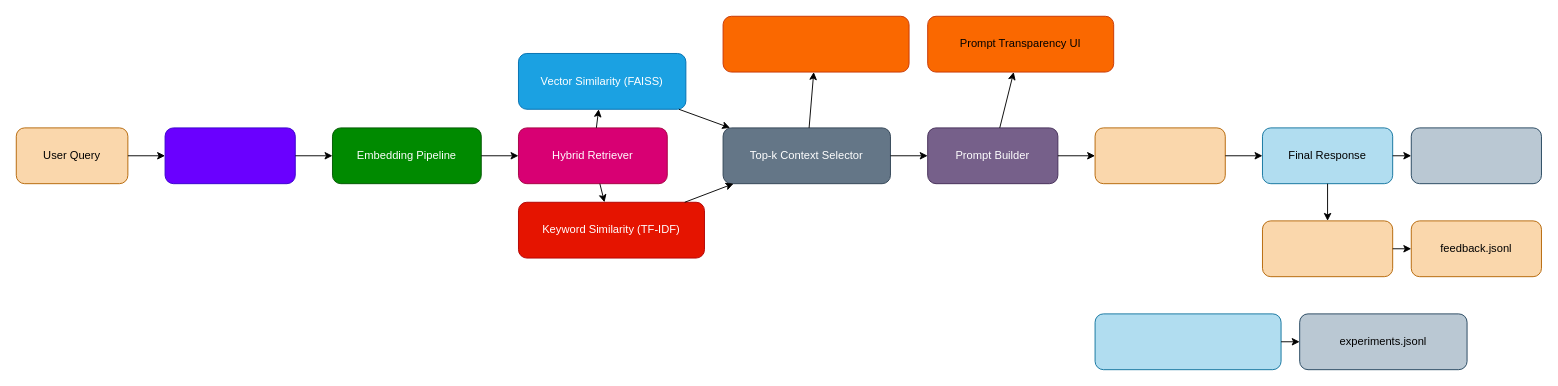
The diagram is 1558 pixels wide and 386 high, and some of its shapes have lost their labels. The shapes that lost their labels are listed below. From the top down, each one's box as (x1, y1, x2, y2) in pixels, then its label:
(722, 15, 909, 72): Retrieved Chunks + Scores UI
(164, 127, 295, 184): Query Cleaner
(1094, 127, 1225, 184): LLM Generator
(1410, 127, 1541, 184): runs.jsonl
(1262, 220, 1393, 277): Feedback Loop
(1094, 313, 1281, 370): Adversarial Test Runner
